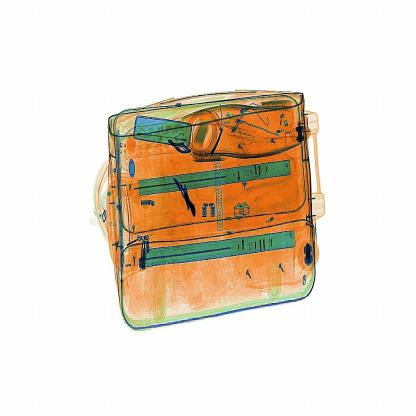wrench: (168, 164, 202, 219)
